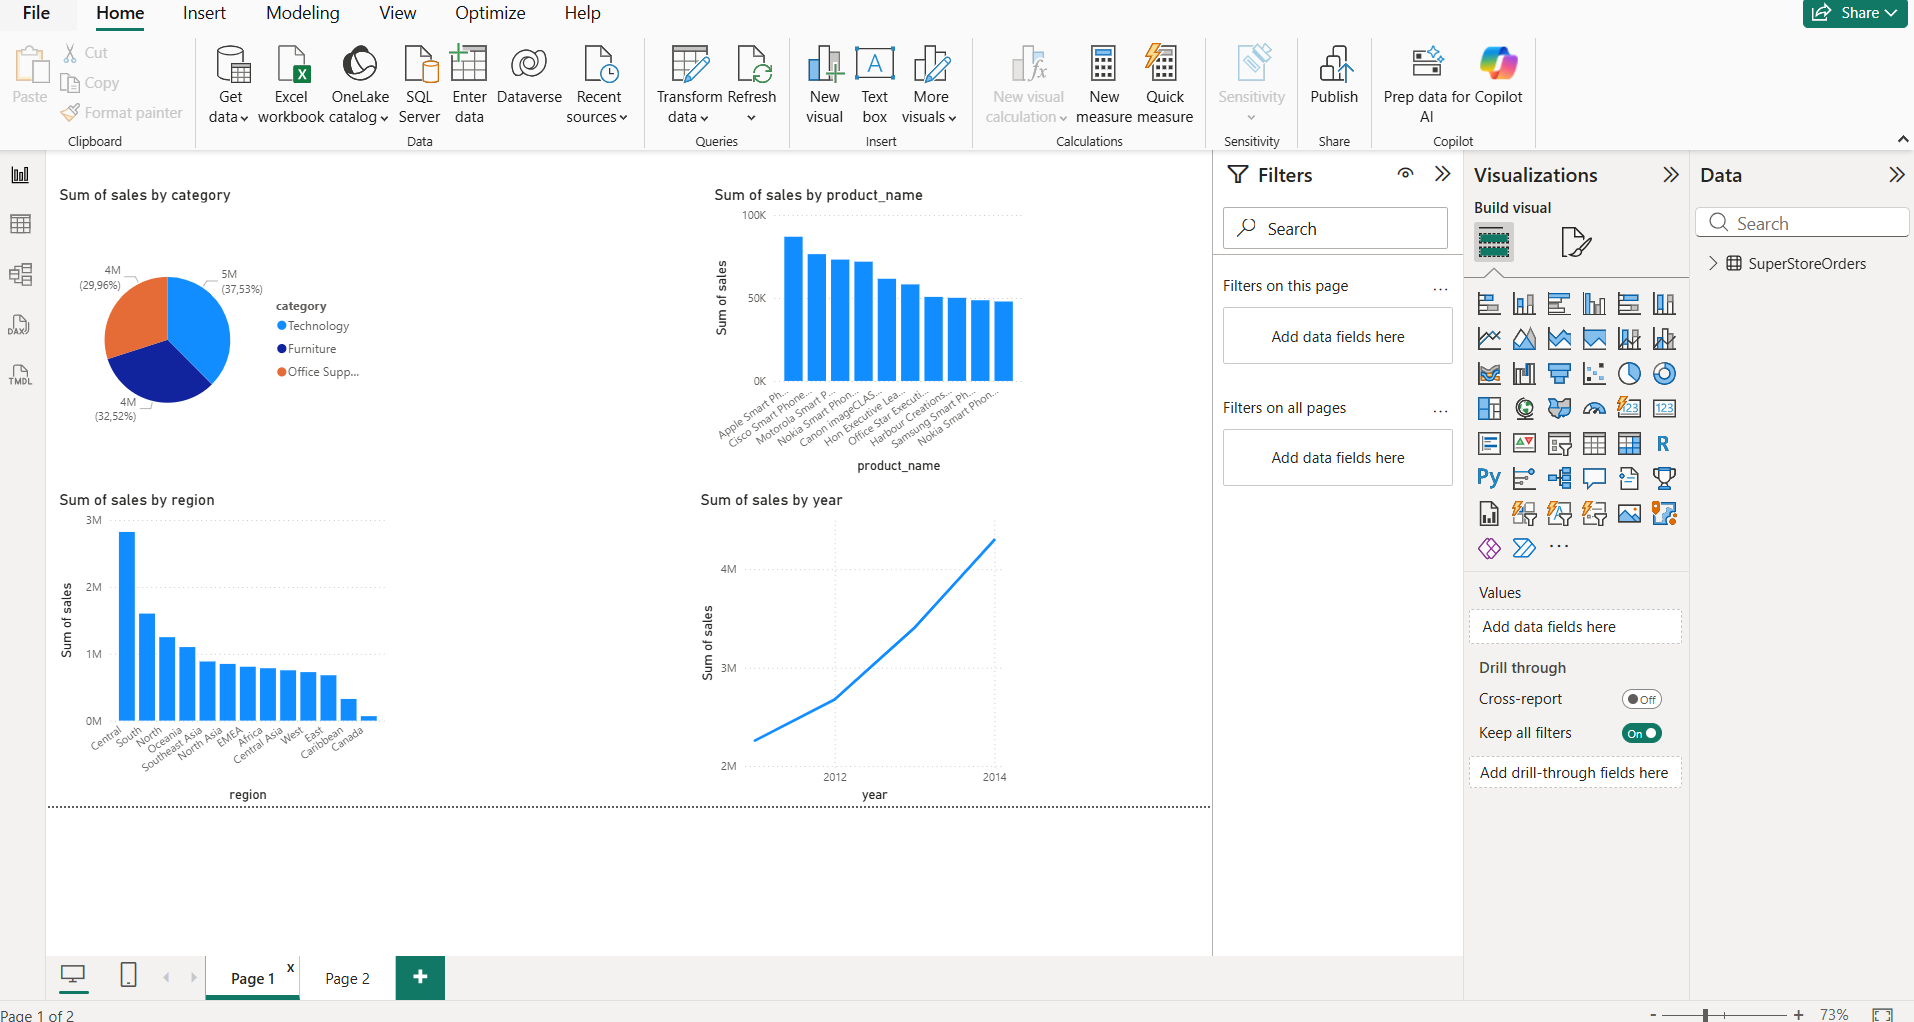

The page's visual inventory and layout, read from the dashboard file:
{"tool":"powerbi","page":{"name":"Page 1","canvas":[1280,720],"ordinal":0},"visuals":[{"type":"pieChart","fields":{"Category":["SuperStoreOrders.category"],"Y":["Sum(SuperStoreOrders.sales)"]},"box":[9.6,38.4,349.9,321.1],"z":0},{"type":"columnChart","fields":{"Category":["SuperStoreOrders.region"],"Y":["Sum(SuperStoreOrders.sales)"]},"box":[9.6,373.2,367.8,347.2],"z":1},{"type":"clusteredColumnChart","fields":{"Category":["SuperStoreOrders.product_name"],"Y":["Sum(SuperStoreOrders.sales)"]},"box":[728.6,38.4,348.5,321.1],"z":4},{"type":"lineChart","fields":{"Category":["SuperStoreOrders.year"],"Y":["Sum(SuperStoreOrders.sales)"]},"box":[713.6,373.2,345.8,347.2],"z":5},{"type":"textbox","box":[370,38,350,321],"z":6}]}

Visuals, with their boxes on the page's 1280x720 design canvas (x1, y1, x2, y2). These are canvas units, not pixel positions in the 1914x1022 screenshot, which may show the page scaled, cropped or inside an application window:
pieChart - SuperStoreOrders.category x Sum(SuperStoreOrders.sales): rect(10, 38, 360, 360)
columnChart - SuperStoreOrders.region x Sum(SuperStoreOrders.sales): rect(10, 373, 377, 720)
clusteredColumnChart - SuperStoreOrders.product_name x Sum(SuperStoreOrders.sales): rect(729, 38, 1077, 360)
lineChart - SuperStoreOrders.year x Sum(SuperStoreOrders.sales): rect(714, 373, 1059, 720)
textbox: rect(370, 38, 720, 359)
